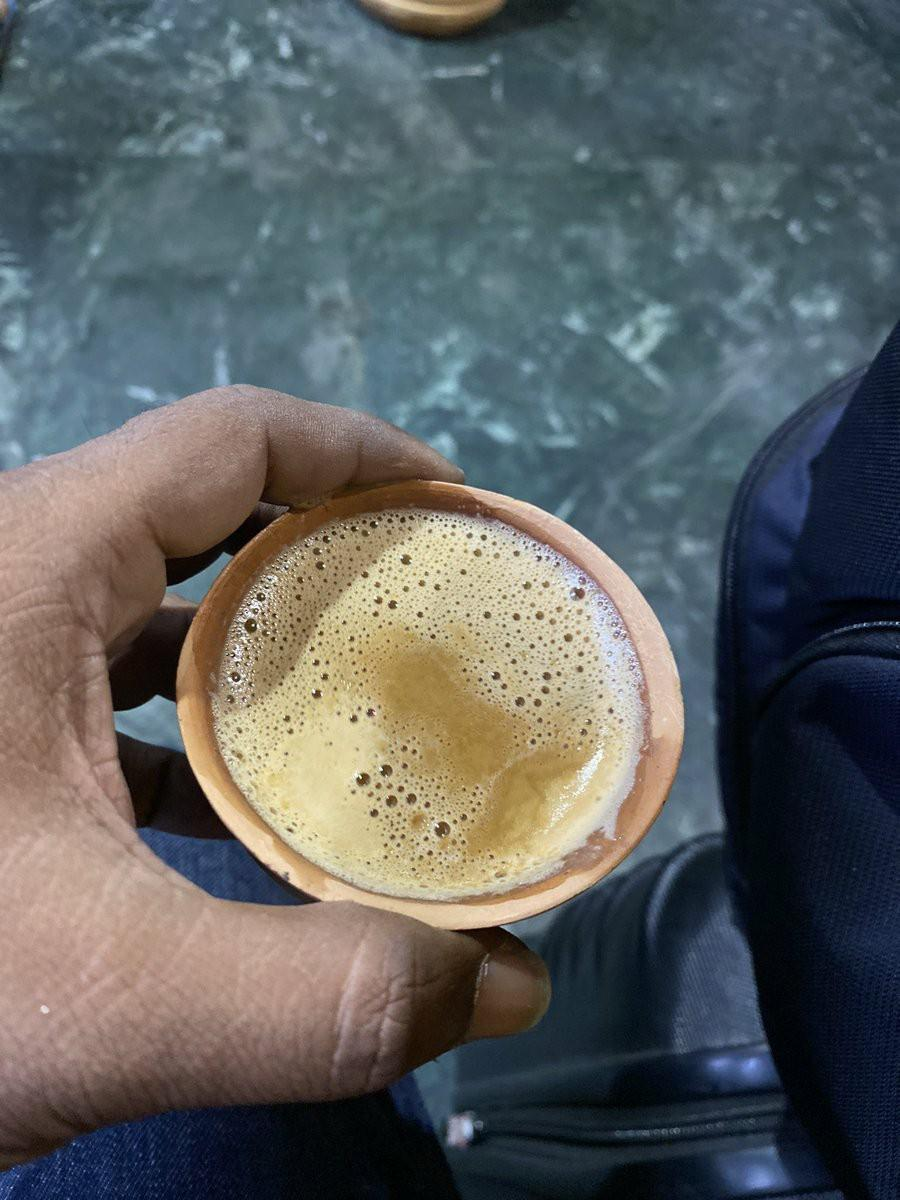Chai: (215, 488, 651, 897)
